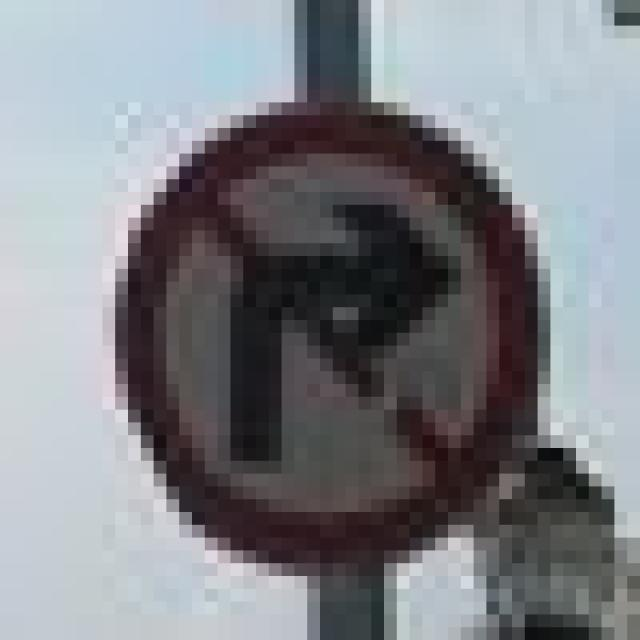right turn prohibited: (112, 102, 545, 573)
